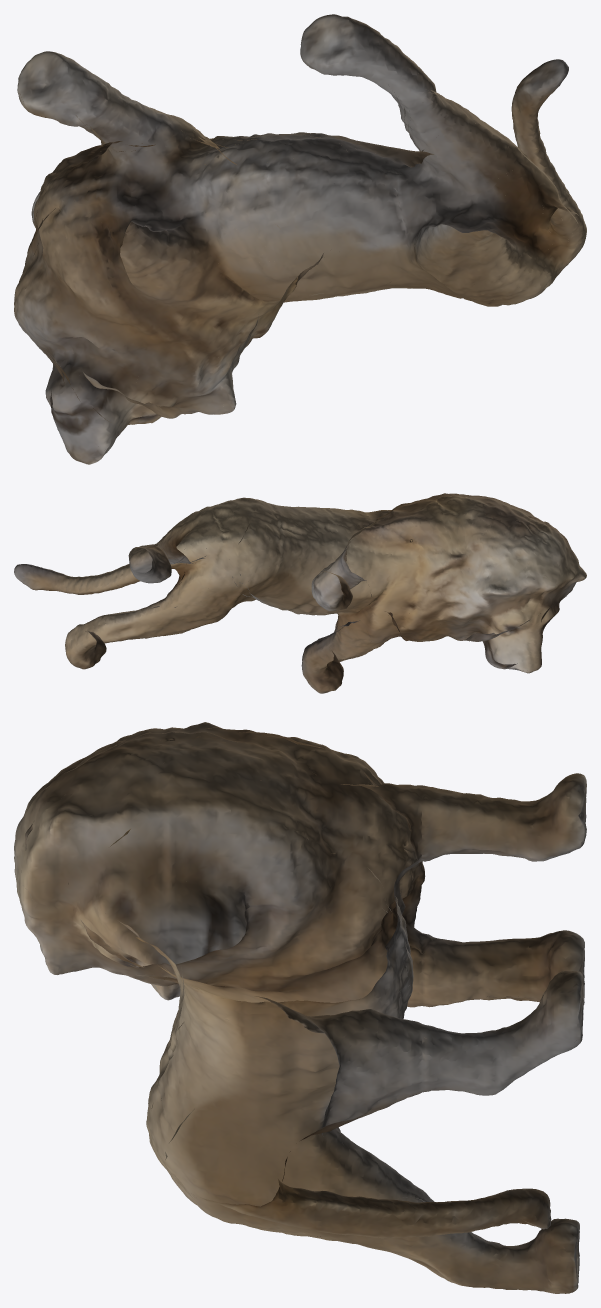
Rendered from lion.glb.
3 renders of one model, top to bottom at view 1: azimuth 30°, elevation 25°; view 2: azimuth 150°, elevation 25°; view 3: azimuth 270°, elevation 25°, orthographic. The views are drawn at different scales.
Bounding box in the file's own units: 1 × 0.3645 × 0.6122.
